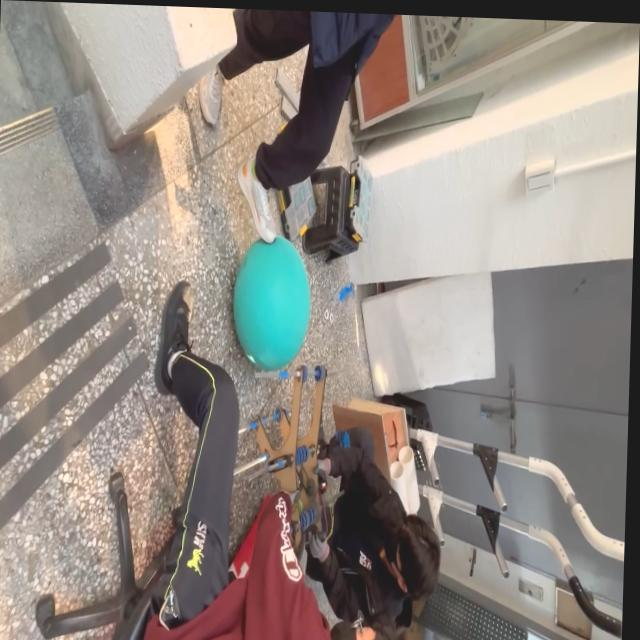ALGAE: (229, 231, 313, 374)
